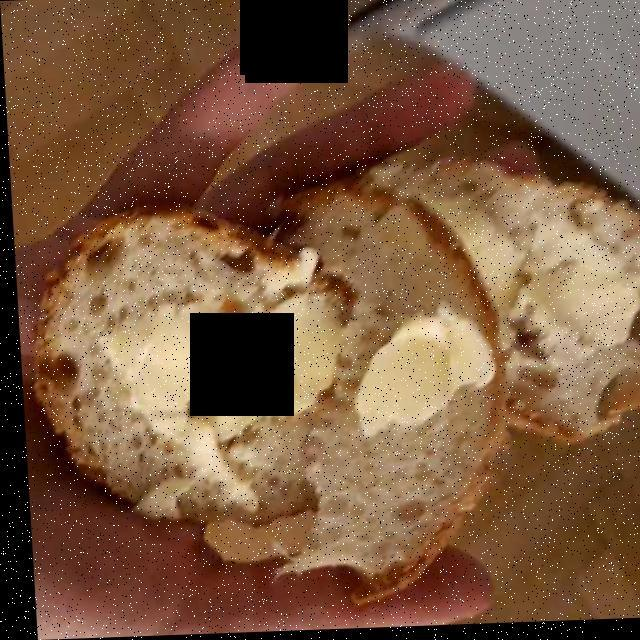bread: (33, 150, 640, 600)
